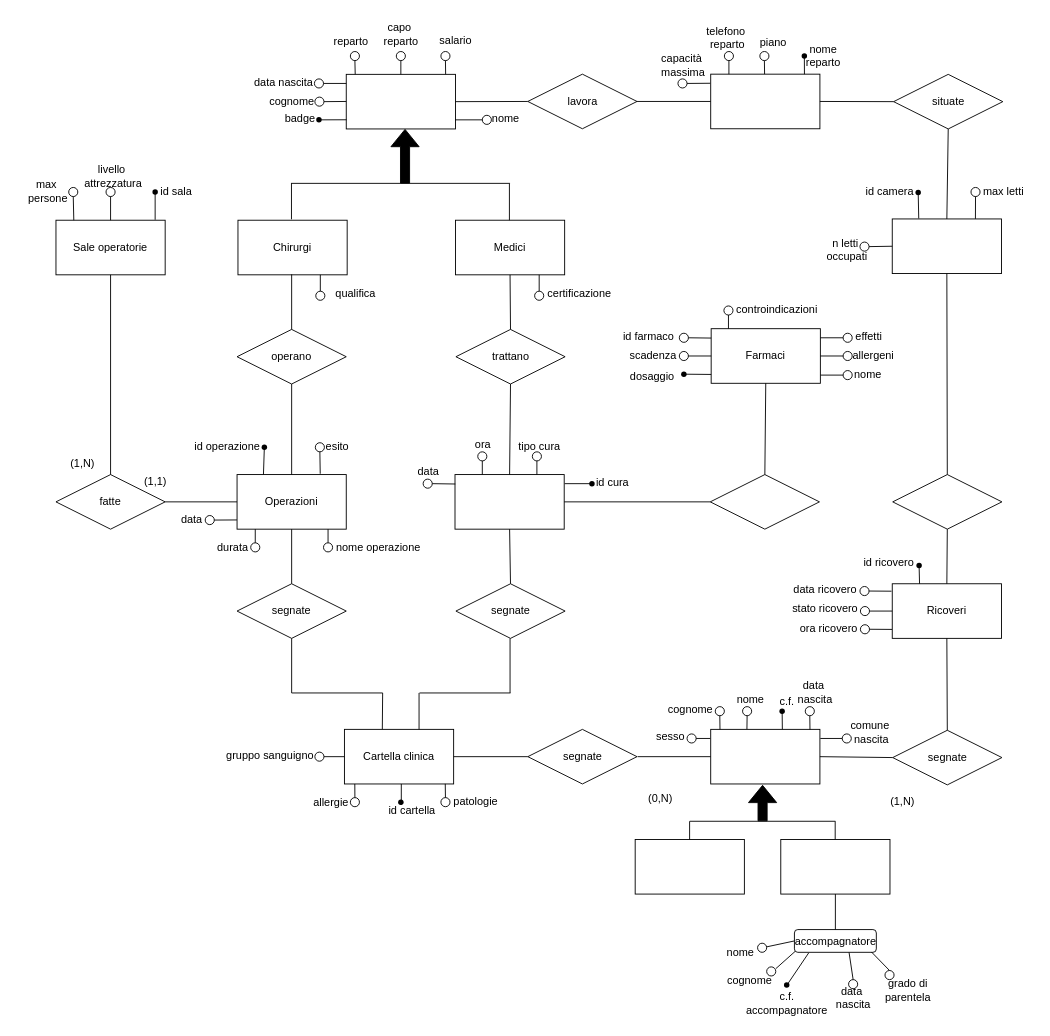
The diagram is 1050 pixels wide and 1036 high, and some of its shapes have lost their labels. Each missing label, with the centre of its shape:
Camere: (x=946, y=246)
Cure: (x=509, y=501)
effettuati: (x=947, y=501)
Maggiorenne: (x=689, y=866)
Minorenne: (x=835, y=866)
Pazienti: (x=765, y=756)
Personale medico: (x=400, y=101)
Reparti: (x=765, y=101)
somministrati: (x=764, y=501)
